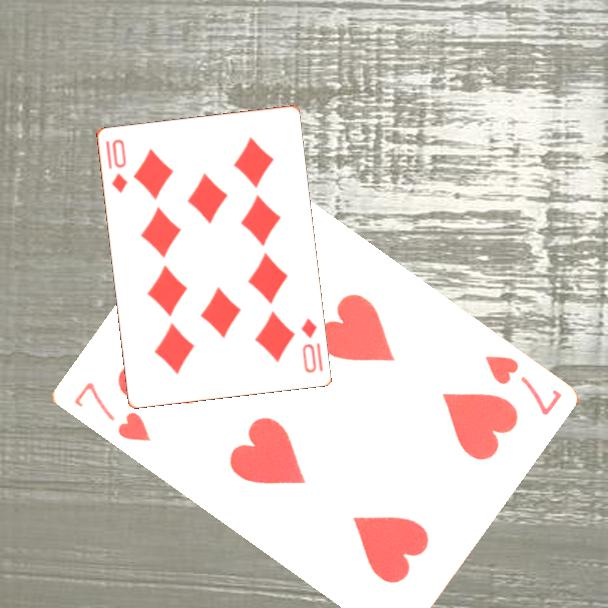d10: (297, 314, 325, 376), (107, 135, 130, 196)
h07: (481, 351, 564, 419), (70, 378, 153, 445)
